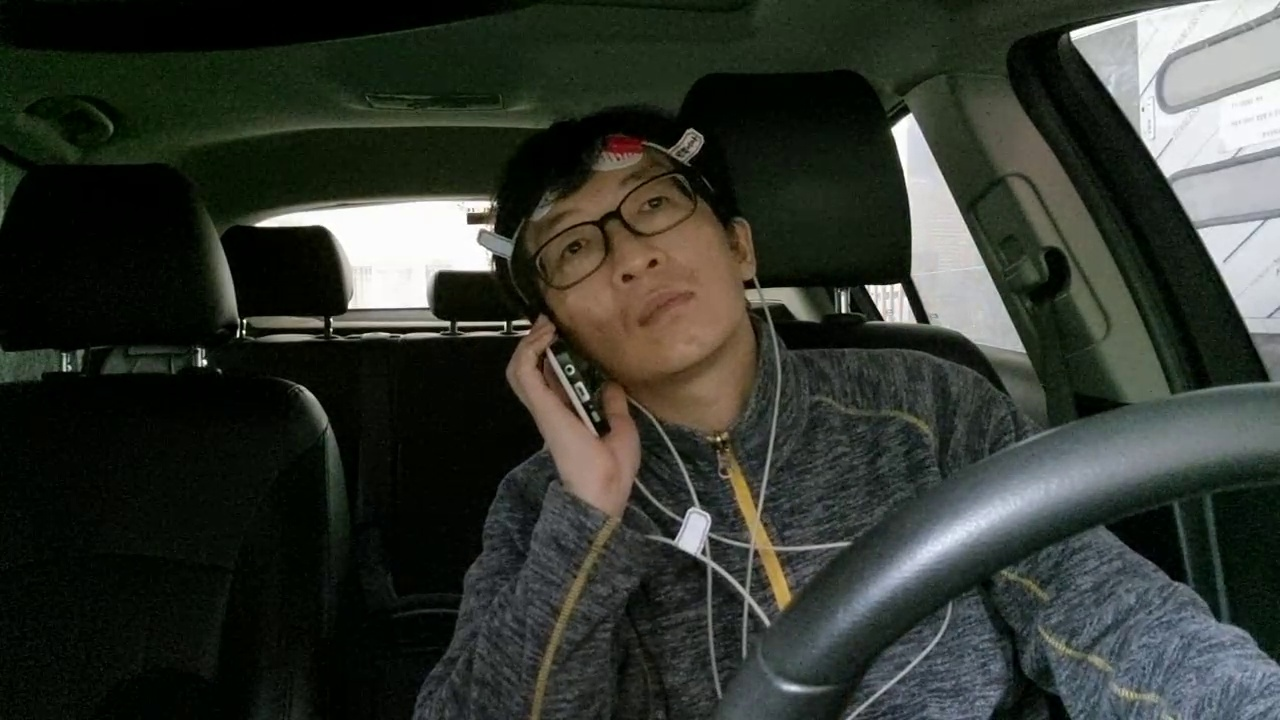phone: (506, 295, 649, 475)
